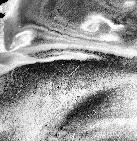CE: (77, 13, 106, 35)
